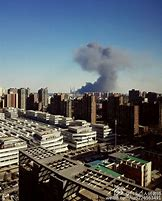smoke: (74, 41, 129, 91)
